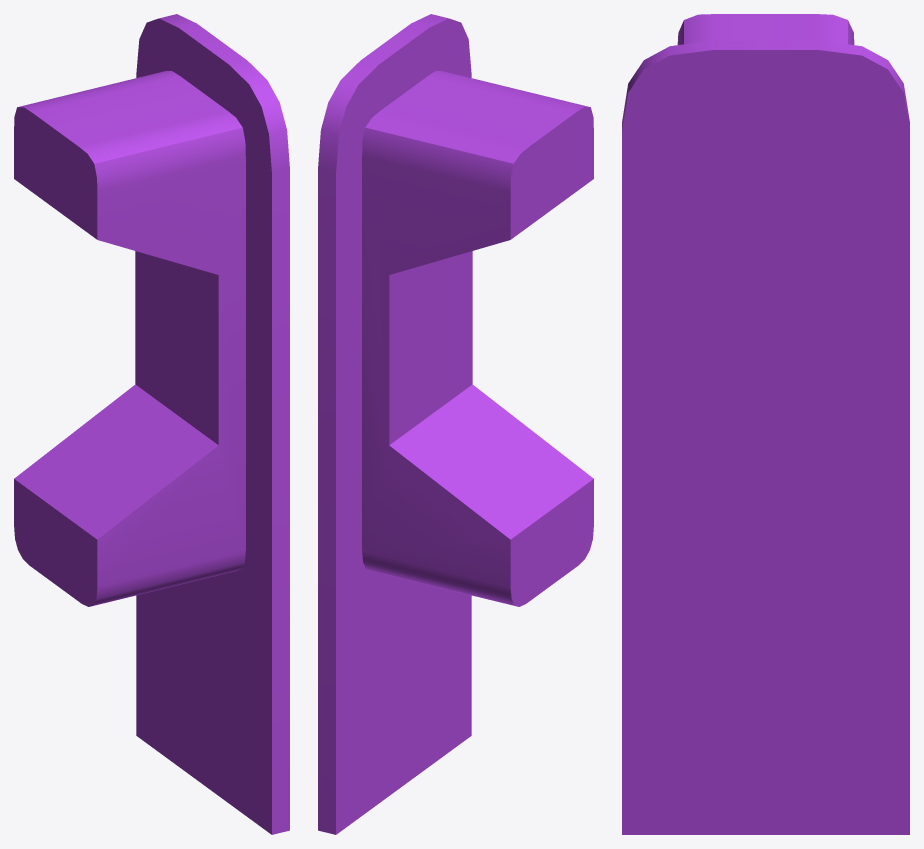
The model's file is Rallings_ColumnConnector_A.FBX.
3 renders of one model, left to right at view 1: azimuth 30°, elevation 25°; view 2: azimuth 150°, elevation 25°; view 3: azimuth 270°, elevation 25°, orthographic. The views are drawn at different scales.
Visible parts, largest first — view 1: Rallings_ColumnConnector_A; view 2: Rallings_ColumnConnector_A; view 3: Rallings_ColumnConnector_A.
Boxes of the visible parts, x1,y1,x2,y2 form: Rallings_ColumnConnector_A: (14,14,289,834); Rallings_ColumnConnector_A: (318,14,593,834); Rallings_ColumnConnector_A: (622,14,909,834).
Bounding box in the file's own units: 18.45 × 78.25 × 26.
